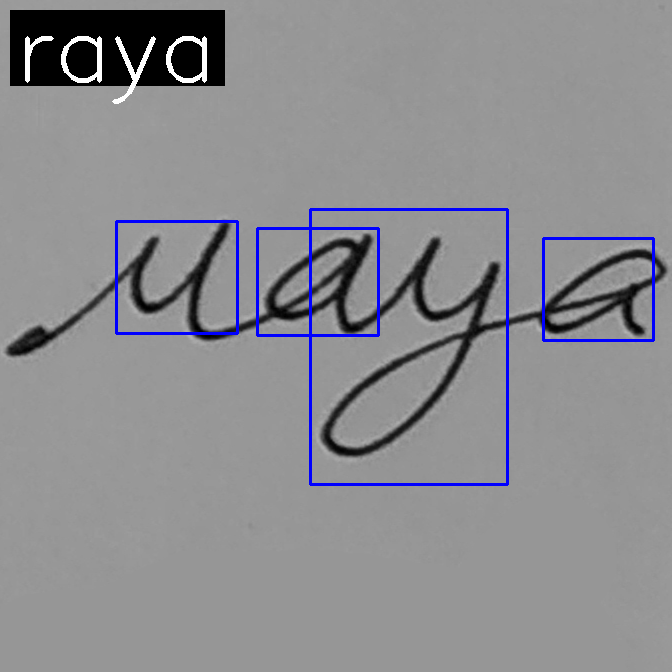a: (534, 243, 669, 344), (255, 229, 377, 335)
r: (66, 216, 232, 348)
y: (313, 231, 503, 462)
